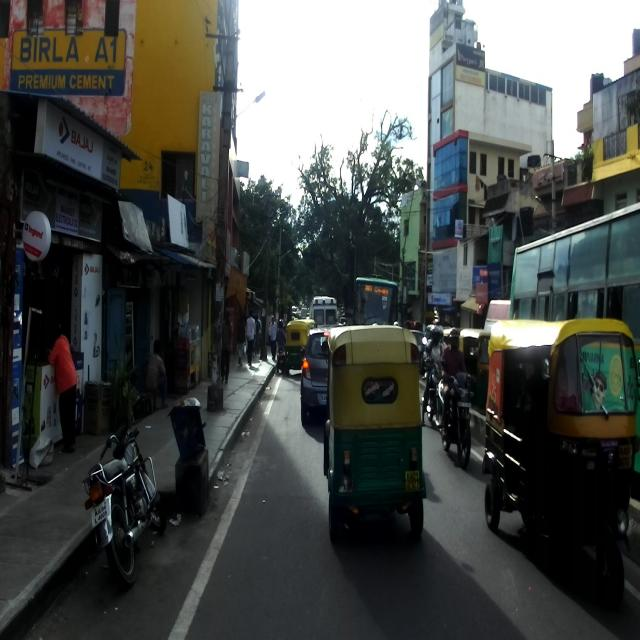autorickshaw: (484, 316, 638, 620), (321, 325, 426, 543)
bus: (507, 201, 639, 499)
motorcycle: (83, 402, 169, 585), (437, 360, 473, 470)
